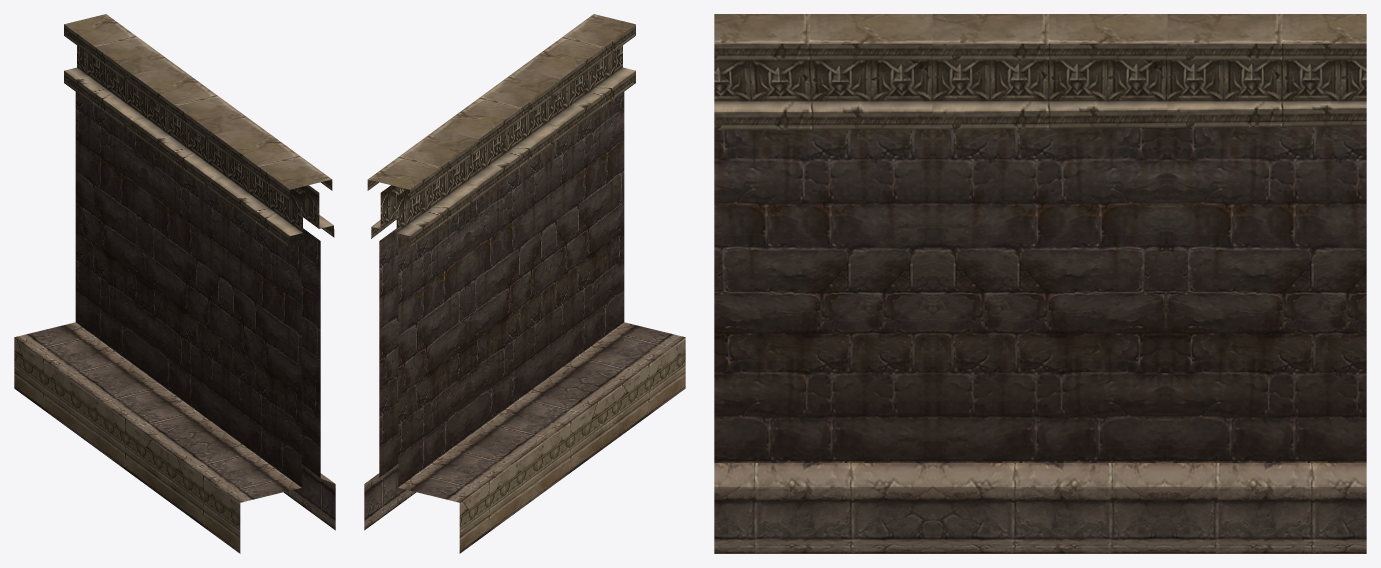
Rendered from blsd_bsqiangm_01.FBX.
3 views of the same model, side by side, from view 1: azimuth 30°, elevation 25°; view 2: azimuth 150°, elevation 25°; view 3: azimuth 270°, elevation 25° (orthographic). The views are drawn at different scales.
Parts seen in each view (by area): view 1: blsd_bsqiangm_01; view 2: blsd_bsqiangm_01; view 3: blsd_bsqiangm_01.
Boxes of the visible parts, left/top/right/bottom form: blsd_bsqiangm_01: left=14, top=14, right=335, bottom=553; blsd_bsqiangm_01: left=364, top=14, right=685, bottom=553; blsd_bsqiangm_01: left=714, top=14, right=1366, bottom=553.
Bounding box in the file's own units: 177 × 623 × 725.
